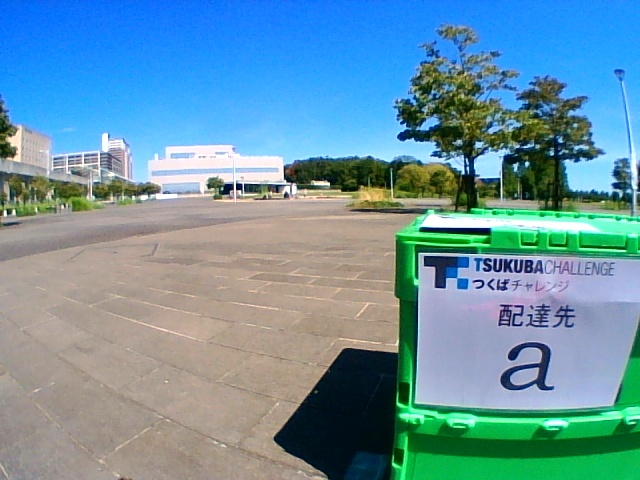green_box: (391, 207, 640, 480)
tag_a: (427, 260, 614, 404)
